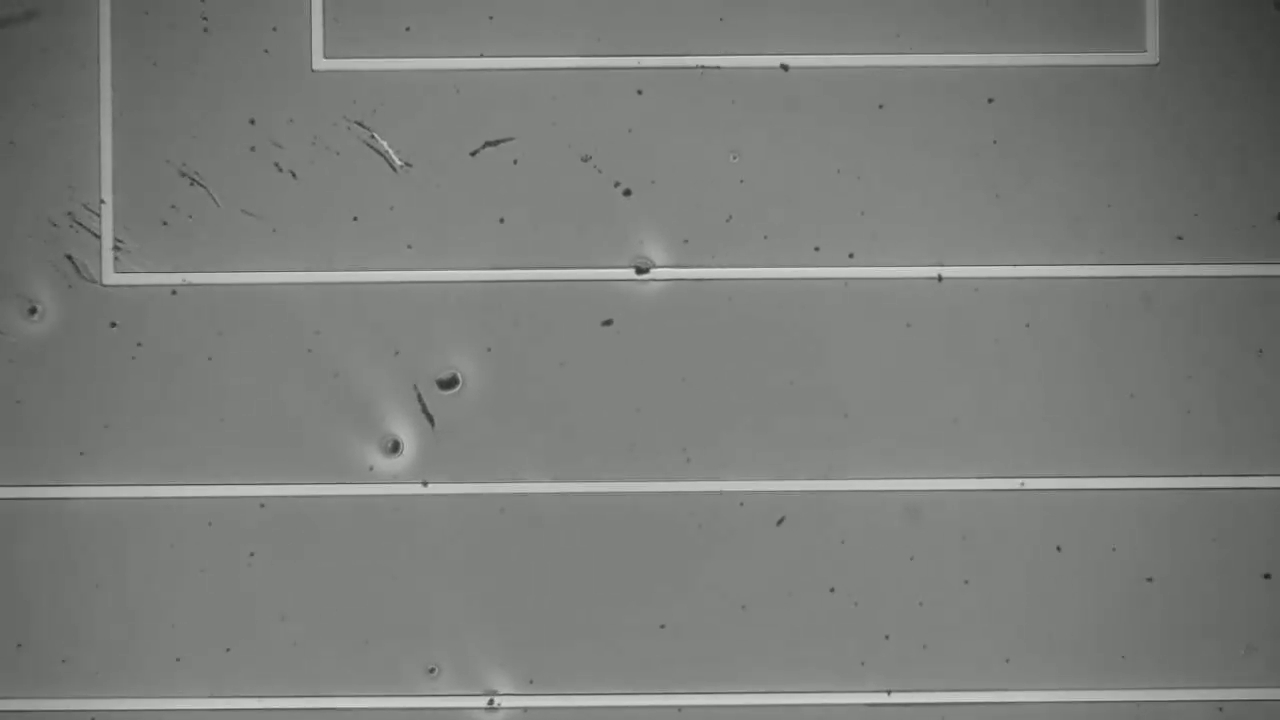scratch: (58, 202, 125, 260)
stains_enbedded: (624, 248, 665, 290), (475, 679, 510, 718)
